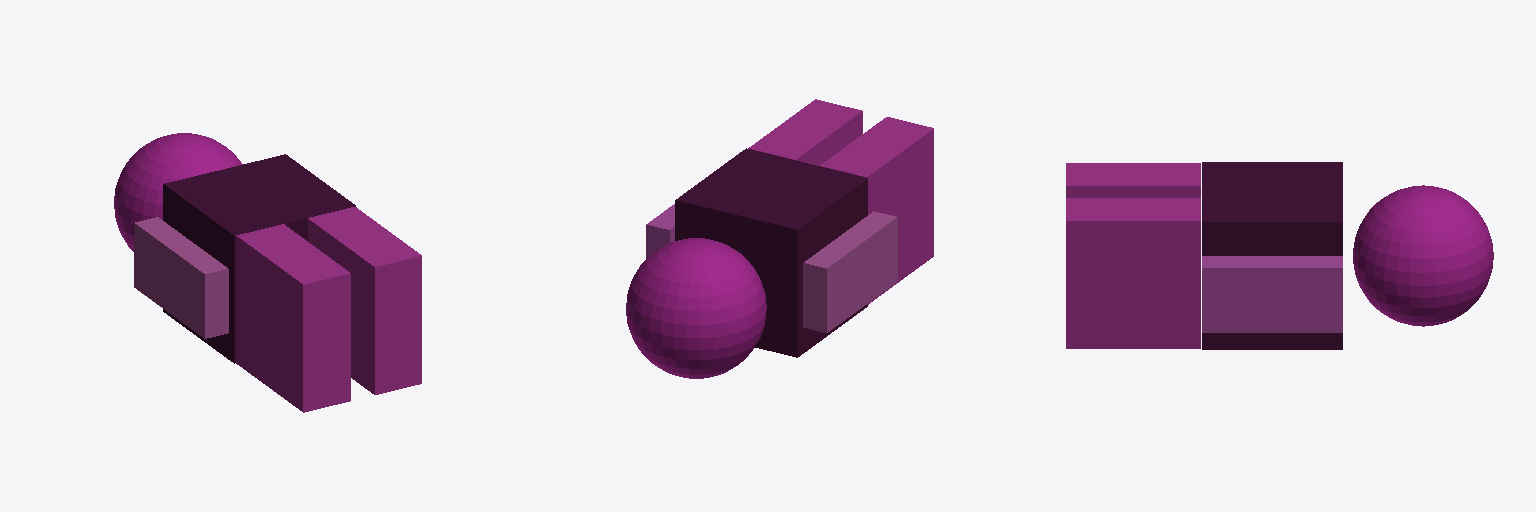
File: rocky_robot_animation_000010.obj
3 views of the same model, side by side, from view 1: azimuth 30°, elevation 25°; view 2: azimuth 150°, elevation 25°; view 3: azimuth 270°, elevation 25° (orthographic).
Visible parts, largest first — view 1: Cube.001_Cube.005, Cube.002, Cube, Cube.004, Sphere.001; view 2: Cube, Sphere.001, Cube.001_Cube.005, Cube.004, Cube.002, Cube.003; view 3: Cube.002, Cube, Sphere.001, Cube.003, Cube.001_Cube.005.
Part boxes in pixels (bbox=[...]): Cube.001_Cube.005: bbox=[236, 224, 350, 412]; Cube.002: bbox=[308, 207, 421, 394]; Cube: bbox=[163, 154, 355, 363]; Cube.004: bbox=[134, 217, 228, 338]; Sphere.001: bbox=[114, 133, 242, 251]; Cube: bbox=[675, 148, 867, 357]; Sphere.001: bbox=[626, 238, 766, 378]; Cube.001_Cube.005: bbox=[820, 117, 933, 304]; Cube.004: bbox=[803, 211, 897, 332]; Cube.002: bbox=[748, 99, 862, 165]; Cube.003: bbox=[646, 204, 674, 258]; Cube.002: bbox=[1066, 198, 1200, 348]; Cube: bbox=[1202, 162, 1342, 349]; Sphere.001: bbox=[1353, 185, 1493, 326]; Cube.003: bbox=[1202, 256, 1342, 332]; Cube.001_Cube.005: bbox=[1066, 163, 1200, 197].
Bounding box in the file's own units: 0.76 × 0.514 × 1.56.